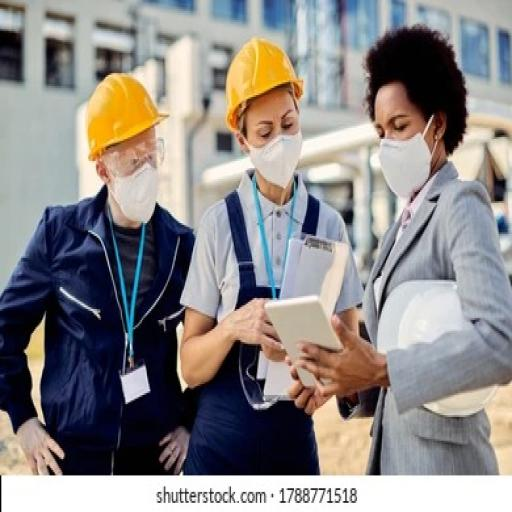mask: (252, 136, 316, 194), (108, 173, 171, 227), (377, 137, 434, 193)
